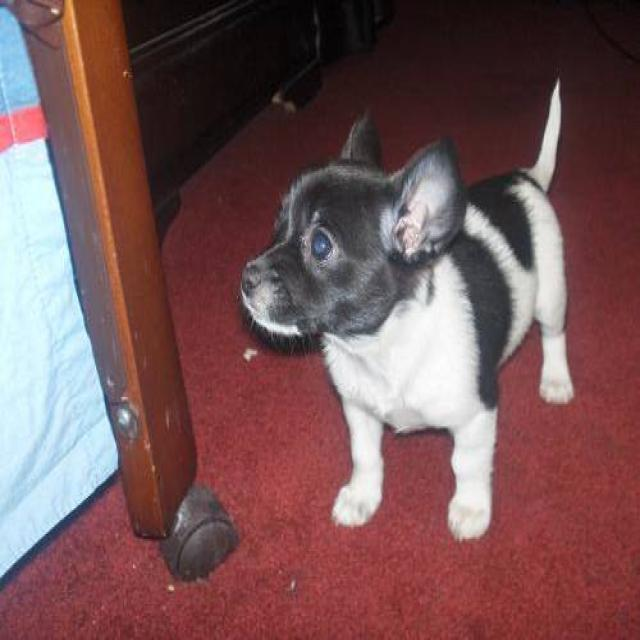puppy-dog: (239, 68, 575, 546)
